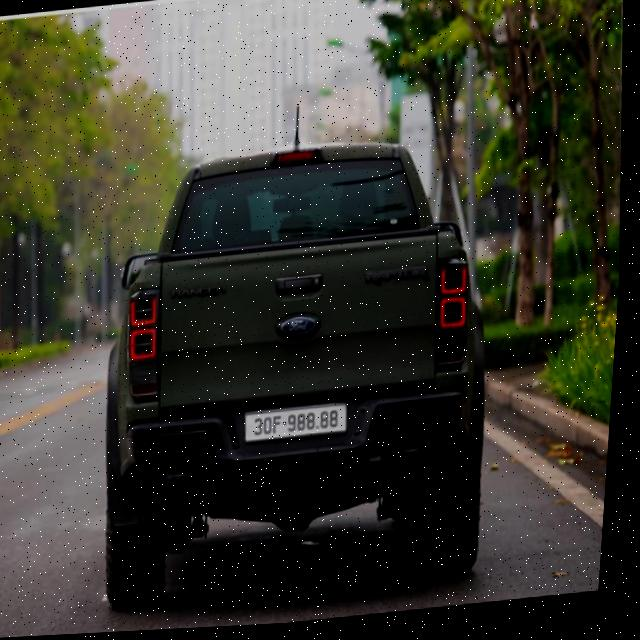car: (86, 123, 516, 626)
plate: (237, 397, 355, 450)
